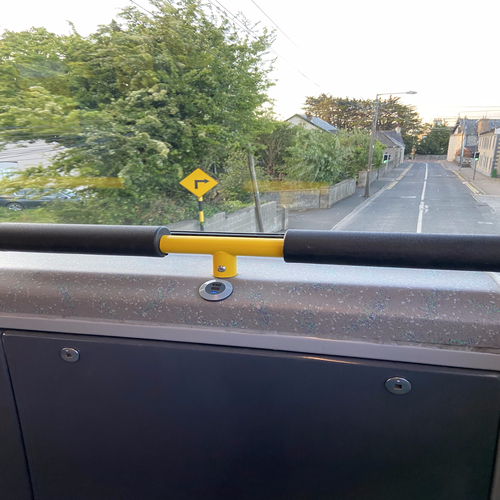Dangerous curve: (179, 166, 219, 199)
